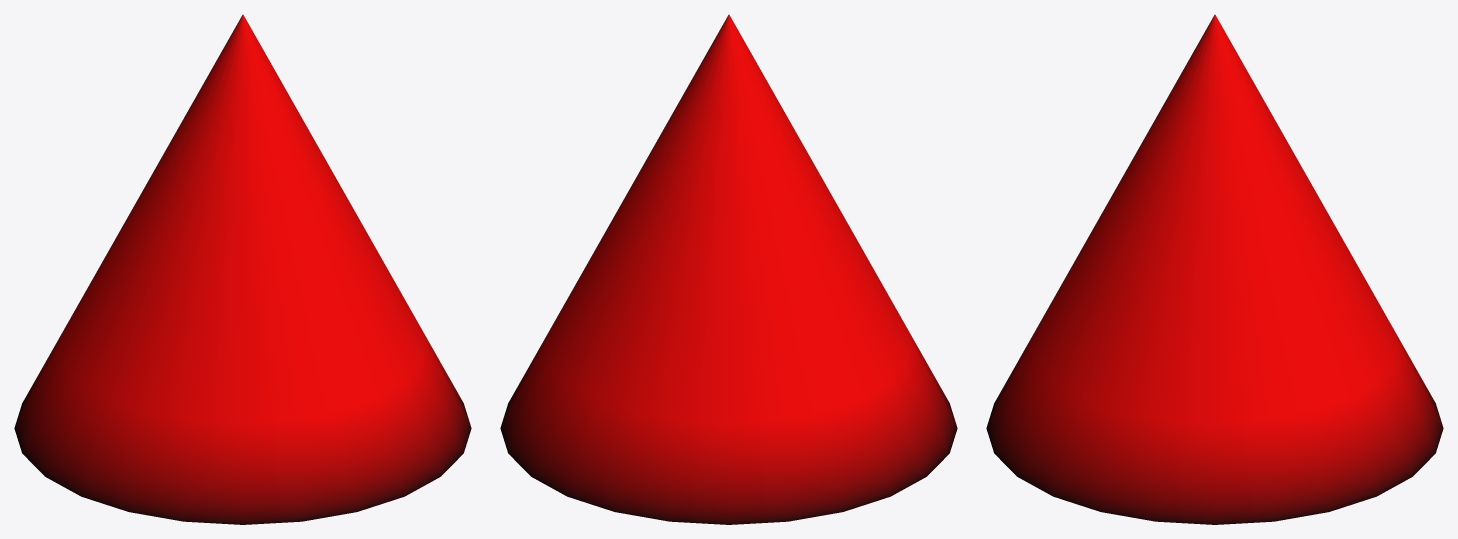
3 renders of one model, left to right at view 1: azimuth 30°, elevation 25°; view 2: azimuth 150°, elevation 25°; view 3: azimuth 270°, elevation 25°, orthographic.
Parts seen in each view (by area): view 1: Cone01; view 2: Cone01; view 3: Cone01.
Part boxes in pixels (x1,y1,x2,y2): Cone01: (14,14,471,524); Cone01: (500,14,957,524); Cone01: (986,14,1443,524).
Bounding box in the file's own units: 2 × 2 × 2.
